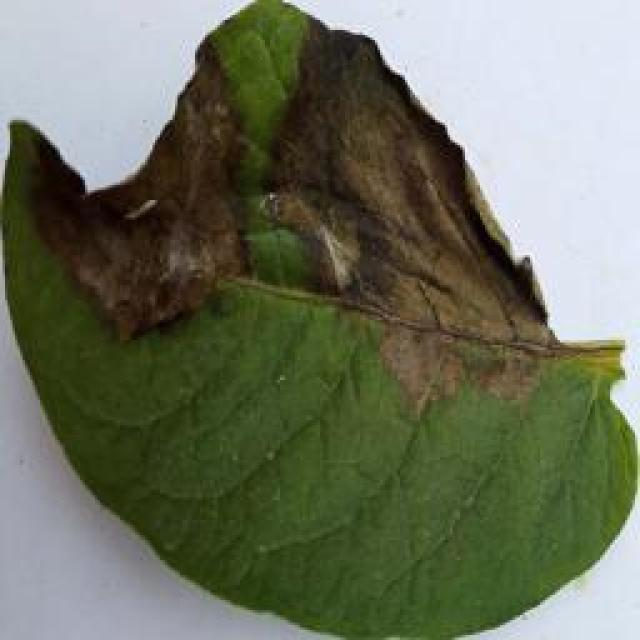Potato_Late_Blight: (2, 18, 628, 640)
